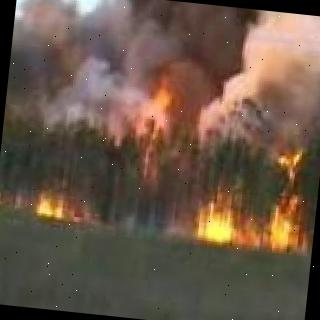fire: (194, 138, 312, 256), (136, 47, 188, 152), (28, 190, 71, 224)
